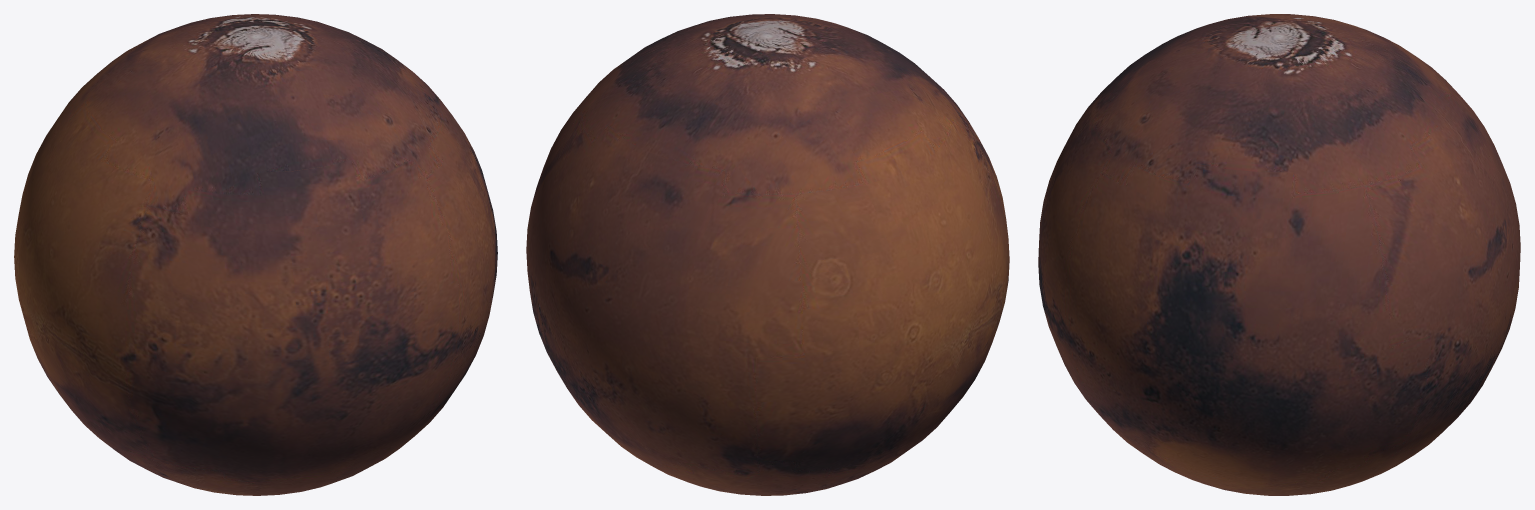
File: mars.obj
3 renders of one model, left to right at view 1: azimuth 30°, elevation 25°; view 2: azimuth 150°, elevation 25°; view 3: azimuth 270°, elevation 25°, orthographic.
Visible parts, largest first — view 1: Mars.001_Sphere.011; view 2: Mars.001_Sphere.011; view 3: Mars.001_Sphere.011.
Part boxes in pixels (x1,y1,x2,y2): Mars.001_Sphere.011: (14,14,497,495); Mars.001_Sphere.011: (526,14,1009,495); Mars.001_Sphere.011: (1038,14,1520,495).
Bounding box in the file's own units: 3.4 × 3.4 × 3.4.
1 material, 1 textured.
